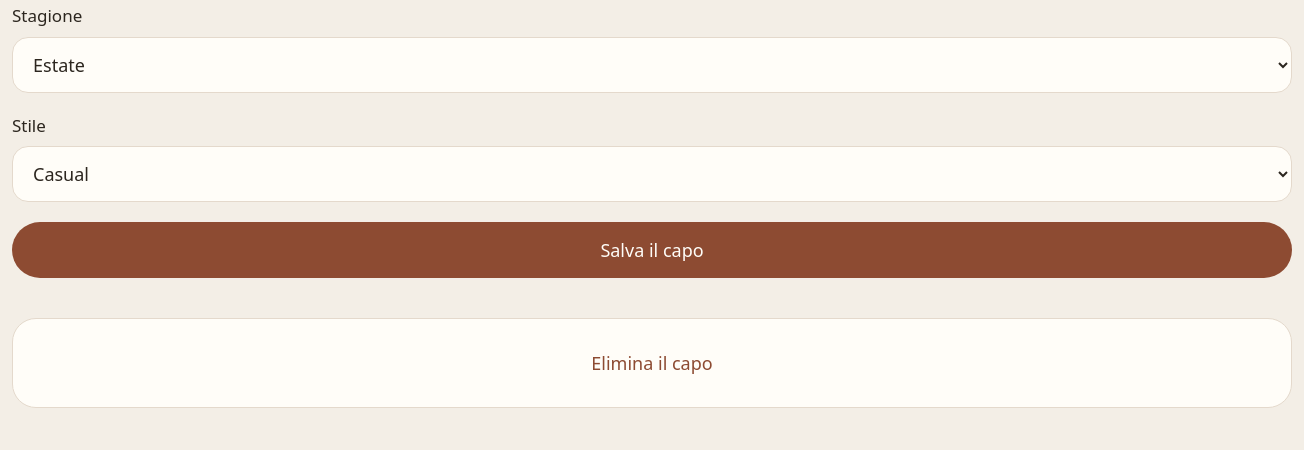
it: guardaroba › elimina un capo solo dopo la conferma
Earlier steps of the test are not shown.
(page scrolled)
Click the button "Elimina il capo".
click(652, 363)  # box top-left (29, 335), bottom-right (1275, 391)
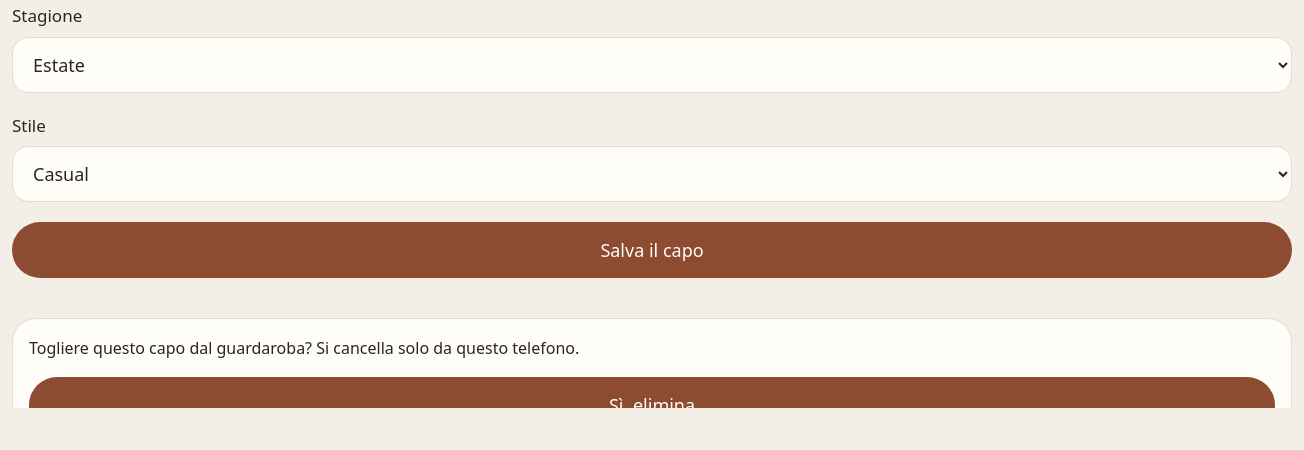
Click the button "Sì, elimina".
click(652, 405)  # box top-left (29, 377), bottom-right (1275, 433)
(page scrolled)
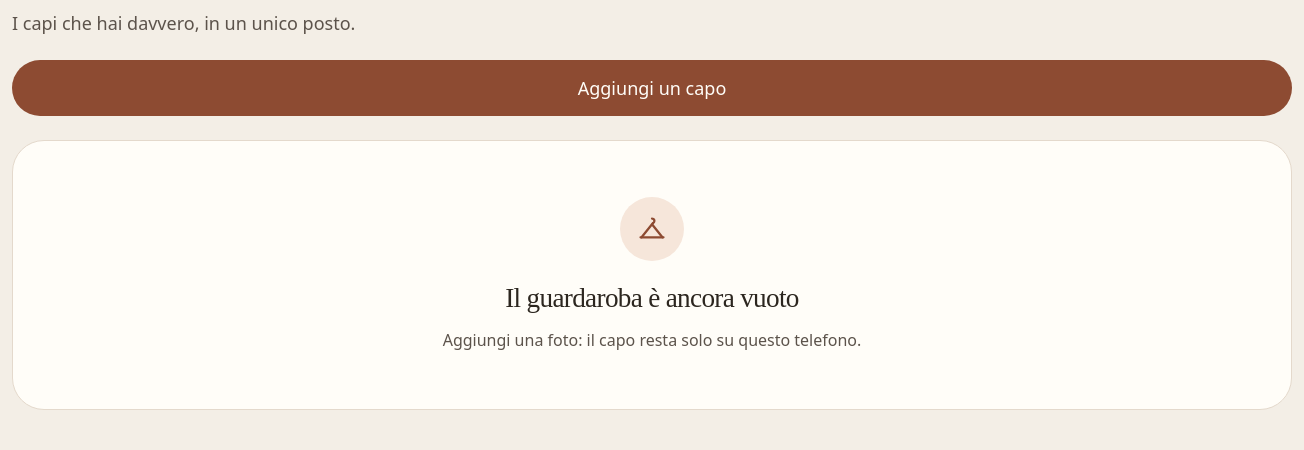
Check: the heading "Il guardaroba è ancora vuoto" is shown, box top-left (505, 281), bottom-right (799, 315)
